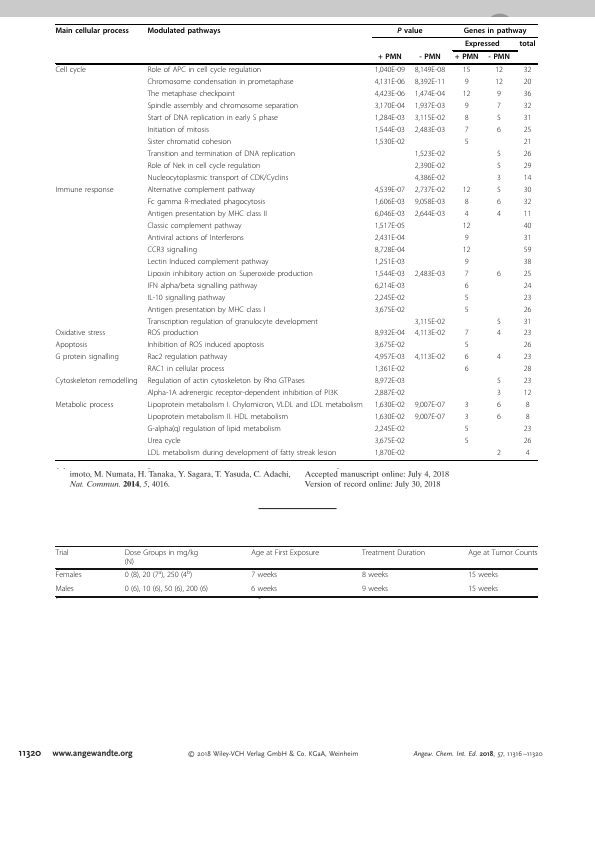borderless: (54, 22, 538, 460), (54, 545, 537, 596)
cell: (146, 400, 364, 410), (146, 388, 339, 398), (146, 448, 337, 458), (146, 376, 306, 386), (146, 317, 319, 326), (146, 101, 299, 111), (146, 269, 314, 278), (146, 149, 296, 159), (146, 173, 289, 183), (146, 412, 289, 422), (146, 424, 282, 434), (124, 549, 199, 567), (146, 78, 295, 87), (146, 113, 279, 123), (146, 209, 268, 219), (146, 197, 266, 207), (146, 161, 261, 171), (146, 257, 269, 266), (146, 185, 256, 195), (146, 305, 266, 314), (146, 341, 265, 350), (146, 66, 262, 75), (146, 281, 258, 290), (146, 221, 242, 231), (146, 89, 236, 99), (146, 233, 245, 242), (146, 137, 232, 147), (54, 376, 139, 386), (124, 585, 209, 595), (124, 569, 193, 581), (146, 352, 228, 362), (146, 364, 225, 374), (146, 293, 226, 302), (55, 26, 130, 35), (146, 26, 221, 35), (54, 352, 120, 362), (146, 125, 210, 135), (467, 549, 538, 558), (250, 549, 320, 558), (54, 185, 114, 195), (54, 400, 114, 410), (361, 549, 426, 558), (463, 26, 527, 35), (146, 329, 199, 338), (146, 245, 198, 254), (54, 329, 106, 338), (464, 39, 501, 49), (146, 436, 182, 446), (374, 89, 406, 99), (414, 89, 446, 99), (374, 101, 406, 111), (414, 101, 446, 111), (374, 113, 406, 123), (414, 113, 446, 123), (374, 125, 406, 135), (414, 125, 446, 135), (374, 137, 406, 147), (414, 149, 446, 159), (414, 161, 446, 171), (414, 173, 446, 183), (374, 185, 406, 195), (414, 185, 446, 195), (374, 197, 406, 207), (414, 197, 446, 207), (374, 209, 406, 219), (414, 209, 446, 219), (374, 221, 406, 231), (374, 352, 406, 362), (414, 352, 446, 362), (374, 364, 406, 374), (374, 376, 406, 386), (374, 388, 406, 398), (374, 400, 406, 410), (414, 400, 446, 410), (374, 412, 406, 422), (414, 412, 446, 422), (374, 424, 406, 434), (374, 436, 406, 446), (374, 448, 406, 458), (467, 571, 499, 581), (467, 585, 499, 595), (54, 341, 88, 350), (54, 66, 87, 75), (374, 66, 406, 75), (414, 66, 446, 75), (374, 78, 406, 87), (414, 78, 446, 87), (374, 233, 406, 242), (374, 245, 406, 254), (374, 257, 406, 266), (374, 269, 406, 278), (414, 269, 446, 278), (374, 281, 406, 290), (374, 293, 406, 302), (374, 305, 406, 314), (414, 317, 446, 326), (374, 329, 406, 338), (414, 329, 446, 338), (374, 341, 406, 350), (250, 571, 278, 581), (361, 571, 389, 581), (250, 585, 278, 595), (361, 585, 389, 595), (55, 571, 82, 581), (377, 52, 403, 62), (454, 52, 479, 62), (396, 26, 423, 35), (487, 52, 511, 62), (418, 52, 441, 62), (54, 585, 75, 595), (519, 39, 536, 49), (55, 549, 69, 558), (494, 66, 504, 75), (494, 78, 504, 87), (462, 89, 471, 99), (523, 89, 532, 99), (523, 101, 532, 111), (523, 113, 532, 123), (523, 125, 532, 135), (523, 137, 532, 147), (523, 149, 532, 159), (523, 161, 532, 171), (523, 173, 532, 183), (462, 185, 471, 195), (523, 185, 532, 195), (523, 197, 532, 207), (523, 209, 532, 219), (462, 221, 471, 231), (523, 221, 532, 231), (523, 352, 532, 362), (523, 364, 532, 374), (523, 376, 532, 386), (523, 388, 532, 398), (523, 424, 532, 434), (523, 436, 532, 446), (462, 66, 471, 75), (523, 66, 532, 75), (523, 78, 532, 87), (523, 233, 532, 242), (462, 245, 471, 254), (523, 245, 532, 254), (523, 257, 532, 266), (523, 269, 532, 278), (523, 281, 532, 290), (523, 293, 532, 302), (523, 305, 532, 314), (523, 317, 532, 326), (523, 329, 532, 338), (523, 341, 532, 350), (496, 89, 502, 99), (496, 101, 502, 111), (496, 113, 502, 123), (496, 125, 502, 135), (496, 149, 502, 159), (496, 161, 502, 171), (496, 173, 502, 183), (496, 185, 502, 195), (496, 197, 502, 207), (496, 209, 502, 219), (496, 352, 502, 362), (496, 376, 502, 386), (496, 388, 502, 398), (496, 400, 502, 410), (496, 412, 502, 422), (496, 448, 502, 458), (496, 269, 502, 278), (496, 317, 502, 326), (496, 329, 502, 338), (464, 101, 469, 111), (464, 113, 469, 123), (464, 125, 469, 135), (464, 137, 469, 147), (464, 197, 469, 207), (464, 209, 469, 219), (464, 352, 469, 362), (464, 364, 469, 374), (464, 400, 469, 410), (525, 400, 530, 410), (464, 412, 469, 422), (525, 412, 530, 422), (464, 424, 469, 434), (464, 436, 469, 446), (525, 448, 530, 458), (464, 78, 469, 87), (464, 233, 469, 242), (464, 257, 469, 266), (464, 269, 469, 278), (464, 281, 469, 290), (464, 293, 469, 302), (464, 305, 469, 314), (464, 329, 469, 338), (464, 341, 469, 350)
